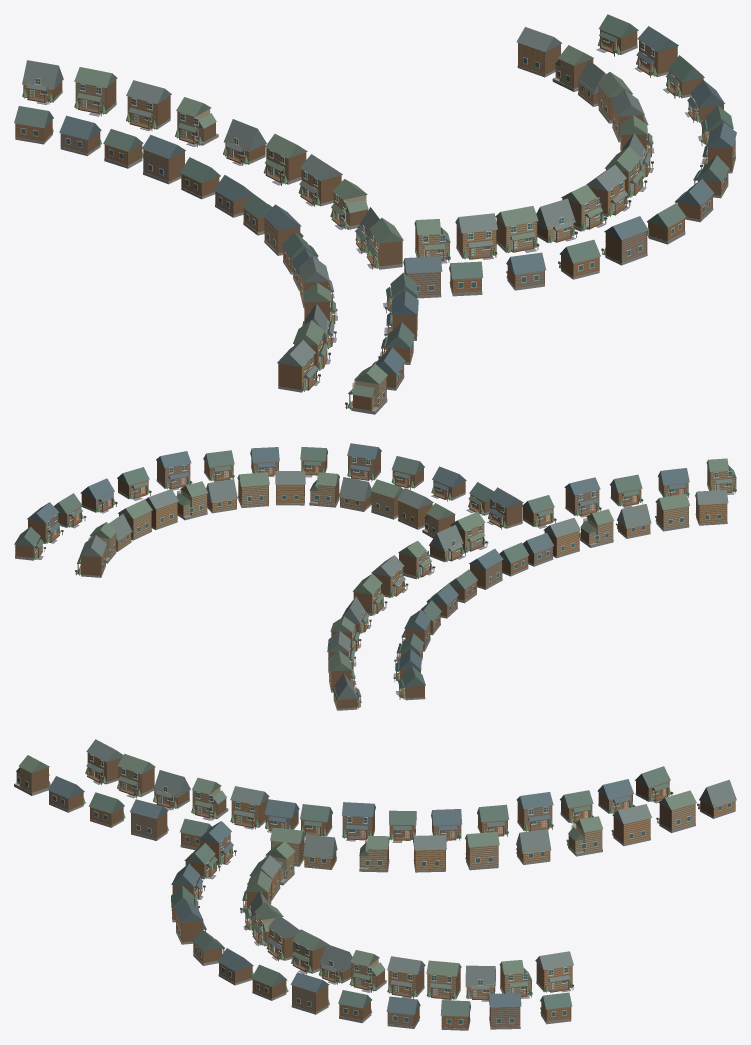
File: cedarbank.glb
3 views of the same model, one above another, from view 1: azimuth 30°, elevation 25°; view 2: azimuth 150°, elevation 25°; view 3: azimuth 270°, elevation 25° (orthographic). The views are drawn at different scales.
Parts seen in each view (by area): view 1: river_house_05.010, river_house_05.011, river_house_07.011, river_house_07.010, river_house_02.011, river_house_05.014, river_house_05.007, river_house_07.009, river_house_02.009, river_house_03.010, river_house_05.009, river_house_02.013 (+40 smaller); view 2: river_house_02.007, river_house_02.012, river_house_02.011, river_house_07.007, river_house_02.010, river_house_05.007, river_house_03.008, river_house_07.012, river_house_05.012, river_house_05.011, river_house_05.008, river_house_03.013 (+44 smaller); view 3: river_house_05.014, river_house_05.013, river_house_05.010, river_house_05.008, river_house_07.007, river_house_07.010, river_house_02.009, river_house_02.007, river_house_02.012, river_house_07.013, river_house_05.007, river_house_03.008 (+44 smaller).
Part boxes in pixels (left/top/right/bottom): river_house_05.010: left=126, top=80, right=171, bottom=130; river_house_05.011: left=455, top=213, right=497, bottom=259; river_house_07.011: left=495, top=206, right=539, bottom=252; river_house_07.010: left=74, top=67, right=117, bottom=116; river_house_02.011: left=601, top=216, right=648, bottom=265; river_house_05.014: left=516, top=27, right=562, bottom=77; river_house_05.007: left=277, top=340, right=320, bottom=392; river_house_07.009: left=263, top=134, right=307, bottom=185; river_house_02.009: left=141, top=134, right=185, bottom=184; river_house_03.010: left=175, top=97, right=218, bottom=147; river_house_05.009: left=298, top=154, right=342, bottom=206; river_house_02.013: left=634, top=26, right=678, bottom=77; river_house_02.007: left=564, top=477, right=601, bottom=517; river_house_02.012: left=156, top=451, right=192, bottom=490; river_house_02.011: left=347, top=443, right=381, bottom=481; river_house_07.007: left=655, top=493, right=690, bottom=531; river_house_02.010: left=487, top=487, right=523, bottom=529; river_house_05.007: left=695, top=489, right=728, bottom=525; river_house_03.008: left=579, top=509, right=614, bottom=547; river_house_07.012: left=237, top=472, right=269, bottom=507; river_house_05.012: left=275, top=471, right=305, bottom=505; river_house_05.011: left=397, top=488, right=433, bottom=529; river_house_05.008: left=543, top=517, right=580, bottom=558; river_house_03.013: left=176, top=481, right=207, bottom=520; river_house_05.014: left=535, top=951, right=573, bottom=992; river_house_05.013: left=387, top=956, right=425, bottom=998; river_house_05.010: left=611, top=804, right=651, bottom=845; river_house_05.008: left=230, top=786, right=269, bottom=829; river_house_07.007: left=117, top=753, right=155, bottom=798; river_house_07.010: left=656, top=790, right=696, bottom=832; river_house_02.009: left=516, top=792, right=553, bottom=831; river_house_02.007: left=130, top=799, right=168, bottom=840; river_house_02.012: left=290, top=972, right=329, bottom=1014; river_house_07.013: left=426, top=960, right=461, bottom=1000; river_house_05.007: left=85, top=739, right=123, bottom=785; river_house_03.008: left=191, top=777, right=228, bottom=820.
Bounding box in the file's own units: 139 × 9.41 × 160.
